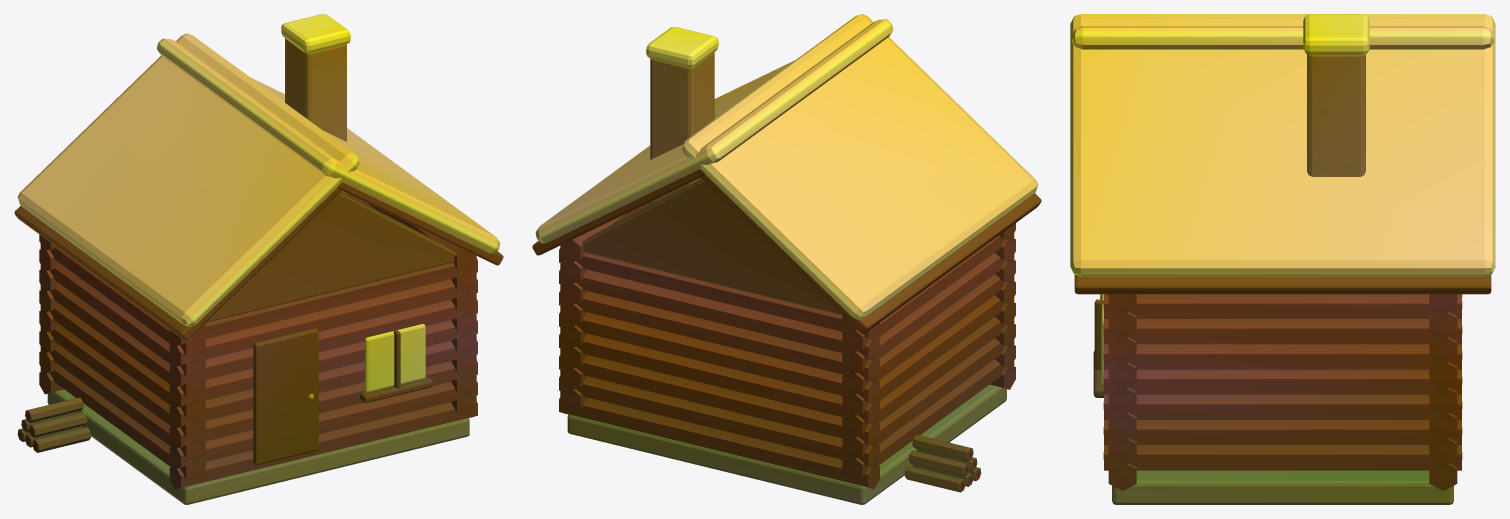
The model's file is Cabin_01.fbx.
3 renders of one model, left to right at view 1: azimuth 30°, elevation 25°; view 2: azimuth 150°, elevation 25°; view 3: azimuth 270°, elevation 25°, orthographic. The views are drawn at different scales.
Parts seen in each view (by area): view 1: Cabin_01; view 2: Cabin_01; view 3: Cabin_01.
Part boxes in pixels (x1,y1,x2,y2): Cabin_01: (14, 14, 503, 504); Cabin_01: (532, 14, 1041, 504); Cabin_01: (1070, 14, 1495, 504).
Bounding box in the file's own units: 4.84 × 4.56 × 3.98.
